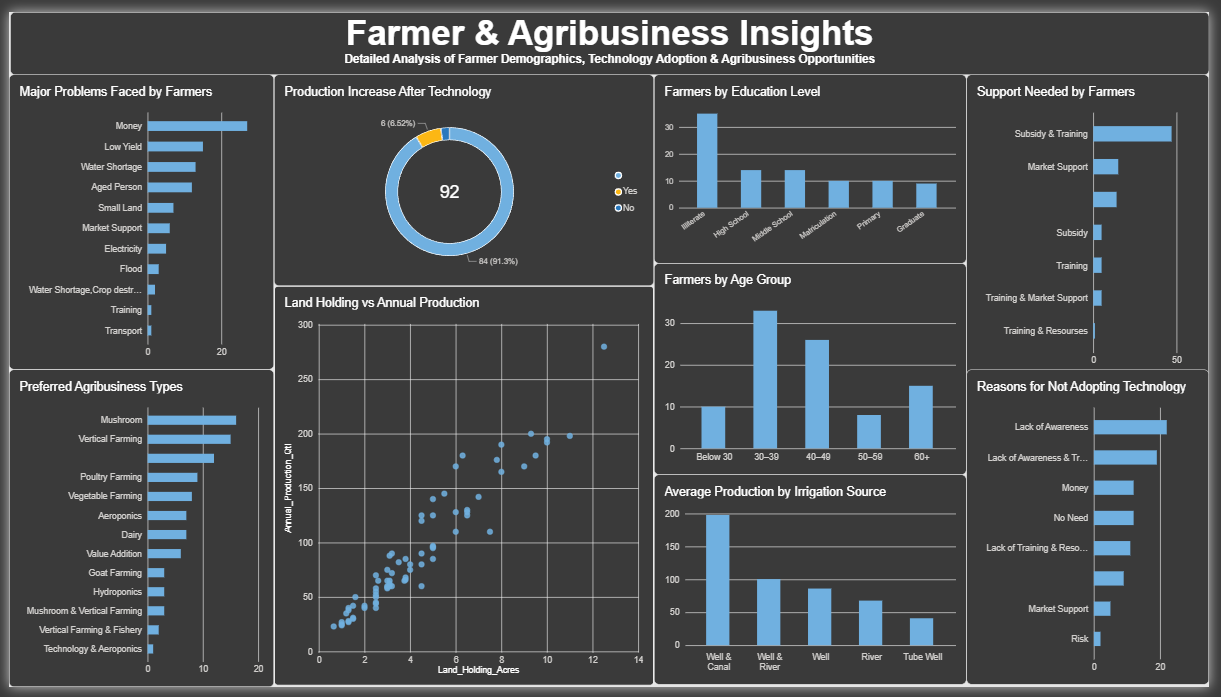

What the dashboard file says about the page in this screenshot:
{"tool":"powerbi","page":{"name":"Farmer Insights","canvas":[1920,1080],"ordinal":1},"visuals":[{"type":"clusteredColumnChart","title":"Farmers by Education Level","fields":{"Category":["farmer_survey_anonymized.Education_Level"],"Y":["CountNonNull(farmer_survey_anonymized.Farmer_ID)"]},"box":[1032,100,500,302],"z":13000},{"type":"clusteredBarChart","title":"Major Problems Faced by Farmers","fields":{"Category":["farmer_survey_anonymized.Major_Problem"],"Y":["CountNonNull(farmer_survey_anonymized.Farmer_ID)"]},"box":[0,100,424,472],"z":16000},{"type":"clusteredBarChart","title":"Support Needed by Farmers","fields":{"Category":["farmer_survey_anonymized.Support_Needed"],"Y":["CountNonNull(farmer_survey_anonymized.Farmer_ID)"]},"box":[1532,100,388,486],"z":17000},{"type":"clusteredBarChart","title":"Reasons for Not Adopting Technology","fields":{"Category":["farmer_survey_anonymized.Reason_for_Not_Adopting"],"Y":["CountNonNull(farmer_survey_anonymized.Farmer_ID)"]},"box":[1532,572,388,504],"z":18000},{"type":"clusteredBarChart","title":"Preferred Agribusiness Types","fields":{"Category":["farmer_survey_anonymized.Preferred_Agribusiness_Type"],"Y":["CountNonNull(farmer_survey_anonymized.Farmer_ID)"]},"box":[0,572,424,508],"z":19000},{"type":"scatterChart","title":"Land Holding vs Annual Production","fields":{"X":["farmer_survey_anonymized.Land_Holding_Acres"],"Y":["farmer_survey_anonymized.Annual_Production_Qtl"]},"box":[424,438,608,640],"z":20000},{"type":"donutChart","title":"Production Increase After Technology","fields":{"Category":["farmer_survey_anonymized.Production_Increased_After_Technology"],"Y":["CountNonNull(farmer_survey_anonymized.Farmer_ID)"]},"box":[424,100,608,338],"z":22000},{"type":"clusteredColumnChart","title":"Average Production by Irrigation Source","fields":{"Category":["farmer_survey_anonymized.Irrigation"],"Y":["Avg(farmer_survey_anonymized.Annual_Production_Qtl)"]},"box":[1032,740,500,336],"z":23000},{"type":"clusteredColumnChart","title":"Farmers by Age Group","fields":{"Y":["CountNonNull(farmer_survey_anonymized.Farmer_ID)"],"Category":["farmer_survey_anonymized.Age Group"]},"box":[1032,402,500,338],"z":24000},{"type":"textbox","box":[2.1,0,1918.4,100.9],"z":25000}]}

Visuals, with their boxes in screenshot pixels (x1, y1, x2, y2), scaled from the page's 1920x1080 canvas onto the 1221x697 screenshot:
"Farmers by Education Level" clusteredColumnChart: (x1=656, y1=65, x2=974, y2=259)
"Major Problems Faced by Farmers" clusteredBarChart: (x1=0, y1=65, x2=270, y2=369)
"Support Needed by Farmers" clusteredBarChart: (x1=974, y1=65, x2=1220, y2=378)
"Reasons for Not Adopting Technology" clusteredBarChart: (x1=974, y1=369, x2=1220, y2=694)
"Preferred Agribusiness Types" clusteredBarChart: (x1=0, y1=369, x2=270, y2=696)
"Land Holding vs Annual Production" scatterChart: (x1=270, y1=283, x2=656, y2=696)
"Production Increase After Technology" donutChart: (x1=270, y1=65, x2=656, y2=283)
"Average Production by Irrigation Source" clusteredColumnChart: (x1=656, y1=478, x2=974, y2=694)
"Farmers by Age Group" clusteredColumnChart: (x1=656, y1=259, x2=974, y2=478)
textbox: (x1=1, y1=0, x2=1220, y2=65)
